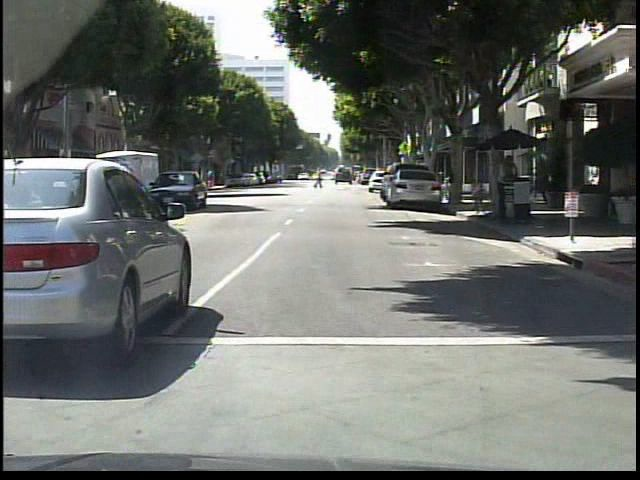person: (499, 155, 522, 225), (314, 169, 324, 189)
